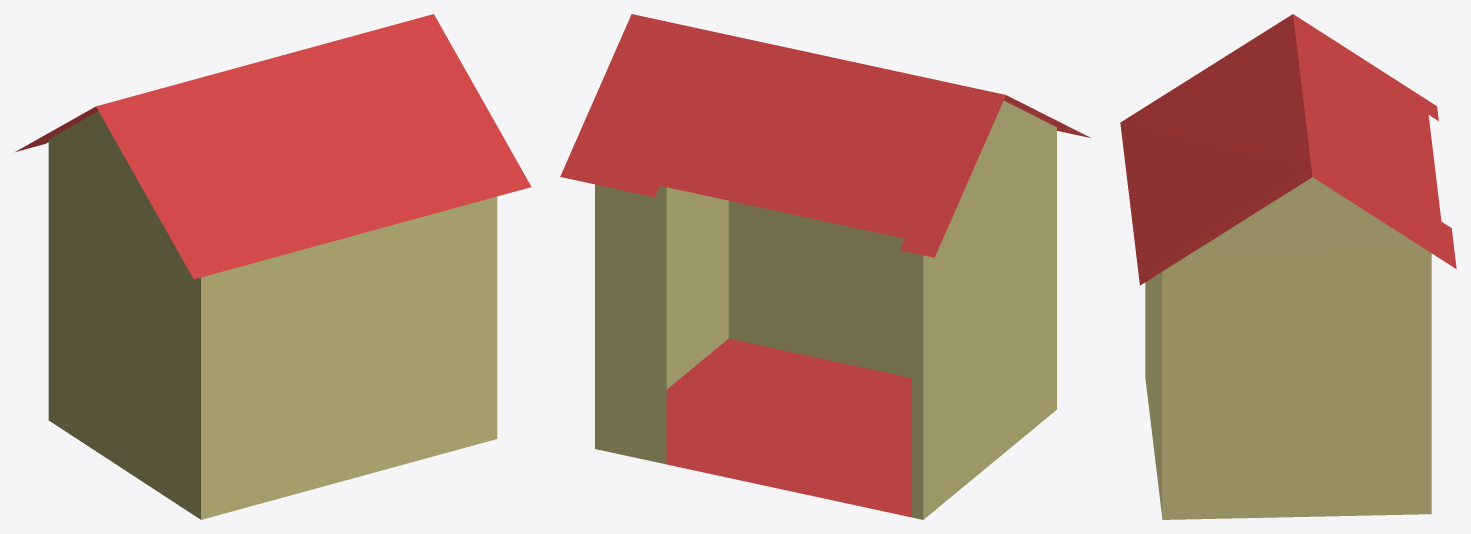
3 views of the same model, side by side, from view 1: azimuth 30°, elevation 25°; view 2: azimuth 150°, elevation 25°; view 3: azimuth 270°, elevation 25° (orthographic). The views are drawn at different scales.
Size of the model in its own units: 8.46 by 7.07 by 8.12.
